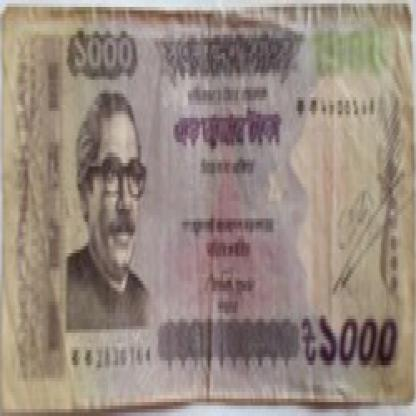One Thousand taka: (300, 308, 400, 371), (66, 31, 140, 83)
